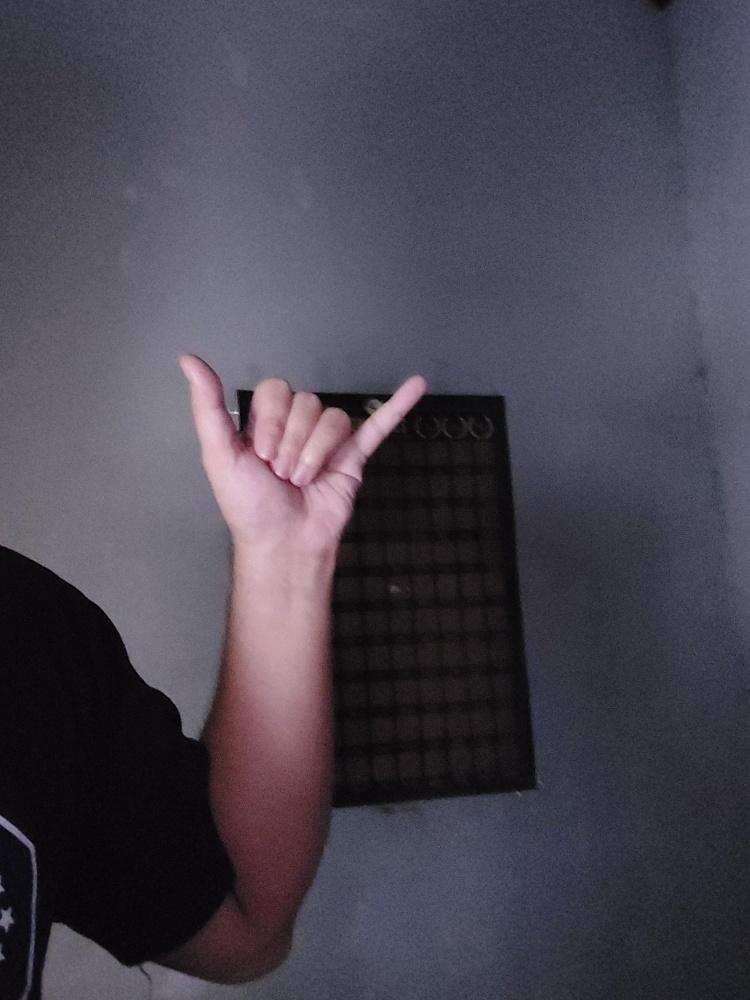y: (172, 347, 429, 533)
